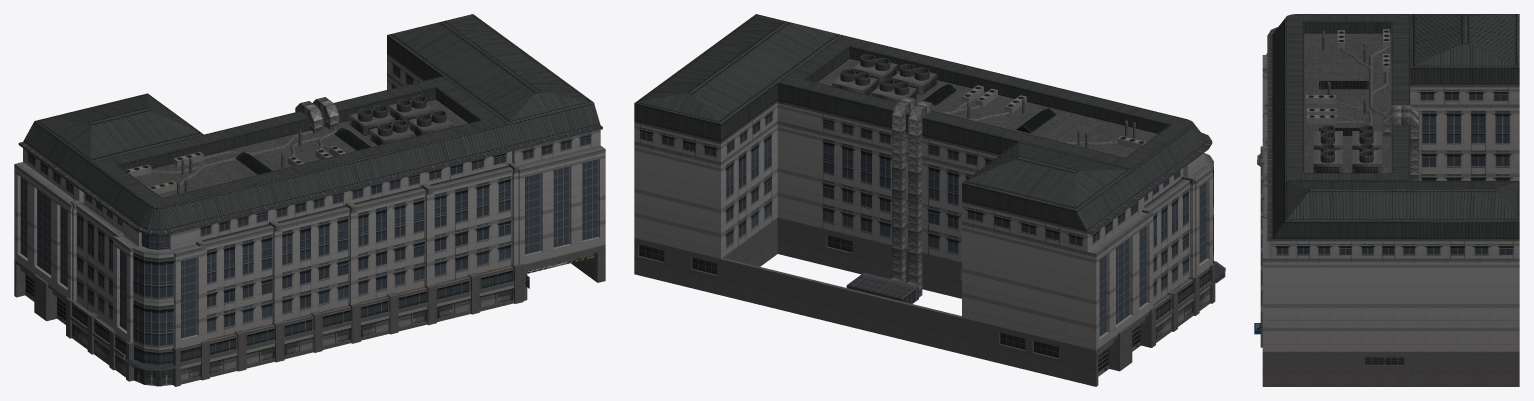
The model's file is AIT01W2W4.FBX.
3 renders of one model, left to right at view 1: azimuth 30°, elevation 25°; view 2: azimuth 150°, elevation 25°; view 3: azimuth 270°, elevation 25°, orthographic. The views are drawn at different scales.
Parts seen in each view (by area): view 1: AIT01W2W4; view 2: AIT01W2W4; view 3: AIT01W2W4.
Part boxes in pixels (x1,y1,x2,y2): AIT01W2W4: [14, 14, 605, 386]; AIT01W2W4: [634, 14, 1225, 386]; AIT01W2W4: [1254, 14, 1519, 386].
Size of the model in its own units: 6471 by 2509 by 3304.
Materials: 1 (1 with a texture image).
